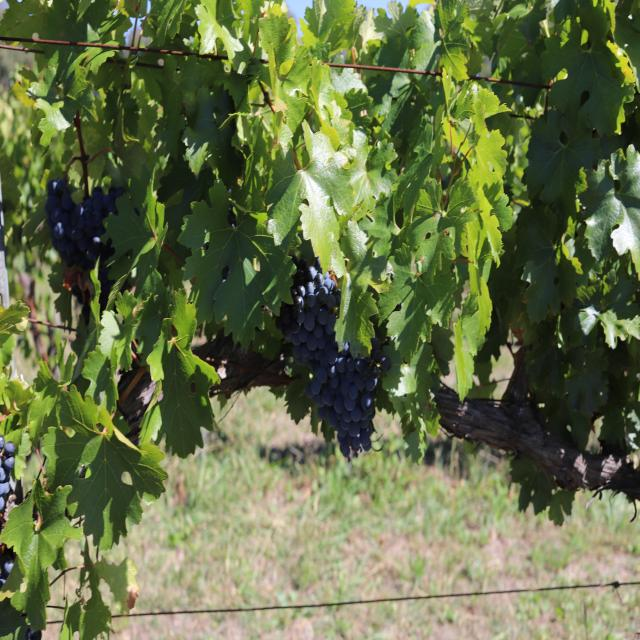grapes: (275, 256, 391, 458), (45, 179, 124, 269), (0, 434, 22, 532)
